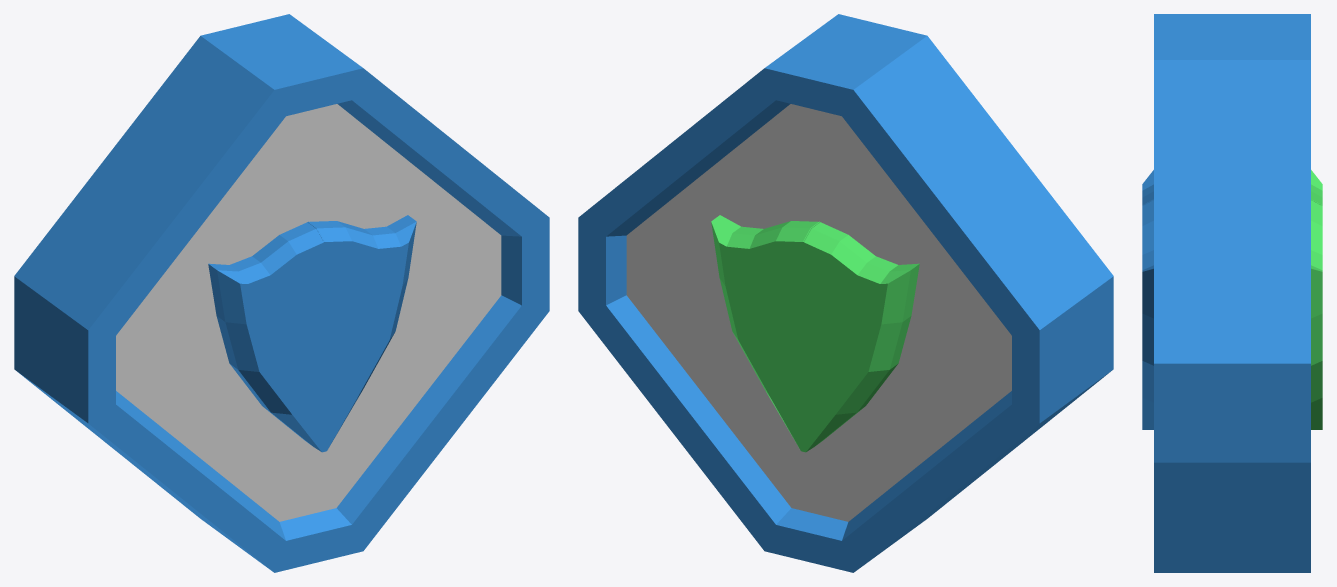
The model's file is bonus_boost_shield.glb.
The picture shows the model from 3 angles, left to right: view 1: azimuth 30°, elevation 25°; view 2: azimuth 150°, elevation 25°; view 3: azimuth 270°, elevation 25°; orthographic projection. The views are drawn at different scales.
Parts seen in each view (by area): view 1: Cube; view 2: Cube; view 3: Cube.
Part boxes in pixels (x1=…): Cube: x1=14, y1=14, x2=549, y2=572; Cube: x1=578, y1=14, x2=1113, y2=572; Cube: x1=1142, y1=14, x2=1322, y2=572.
Size of the model in its own units: 2.37 by 2.37 by 0.7569.
